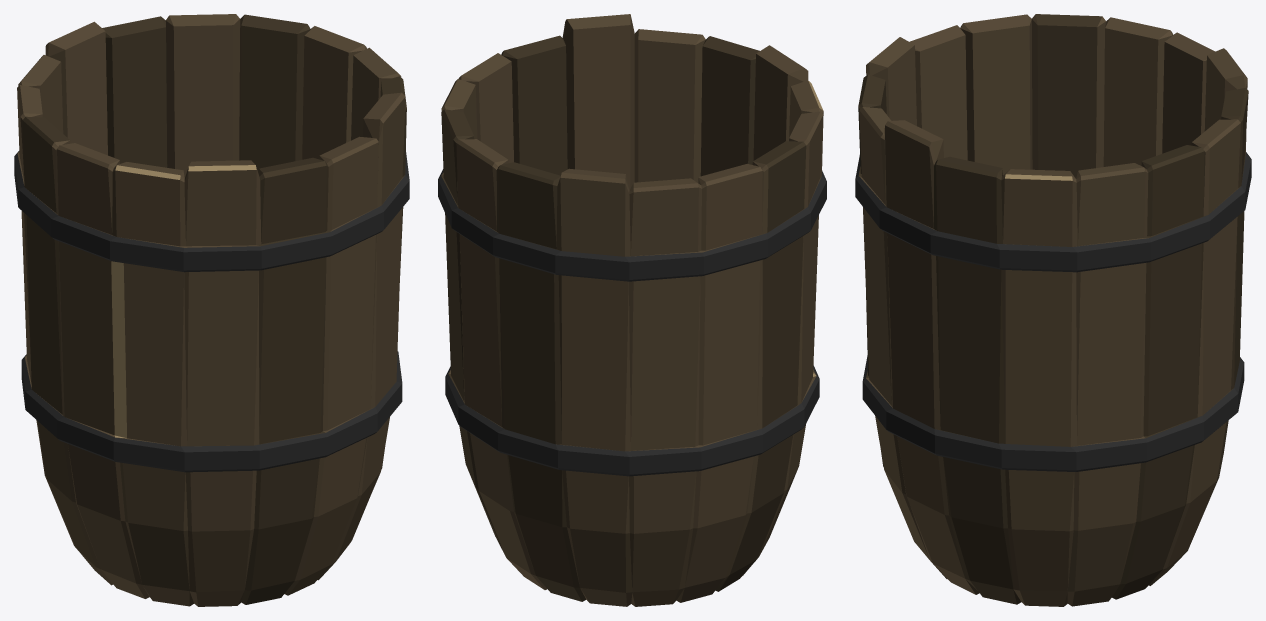
Rendered from EA03_Prop_Container_Basket_04a.glb.
3 renders of one model, left to right at view 1: azimuth 30°, elevation 25°; view 2: azimuth 150°, elevation 25°; view 3: azimuth 270°, elevation 25°, orthographic. The views are drawn at different scales.
Parts seen in each view (by area): view 1: EA03_Prop_Container_Basket_04a; view 2: EA03_Prop_Container_Basket_04a; view 3: EA03_Prop_Container_Basket_04a.
Part boxes in pixels (x1,y1,x2,y2): EA03_Prop_Container_Basket_04a: (14, 14, 409, 606); EA03_Prop_Container_Basket_04a: (438, 14, 826, 606); EA03_Prop_Container_Basket_04a: (855, 14, 1251, 606).
Size of the model in its own units: 0.321 by 0.4256 by 0.321.
1 material, 1 textured.
